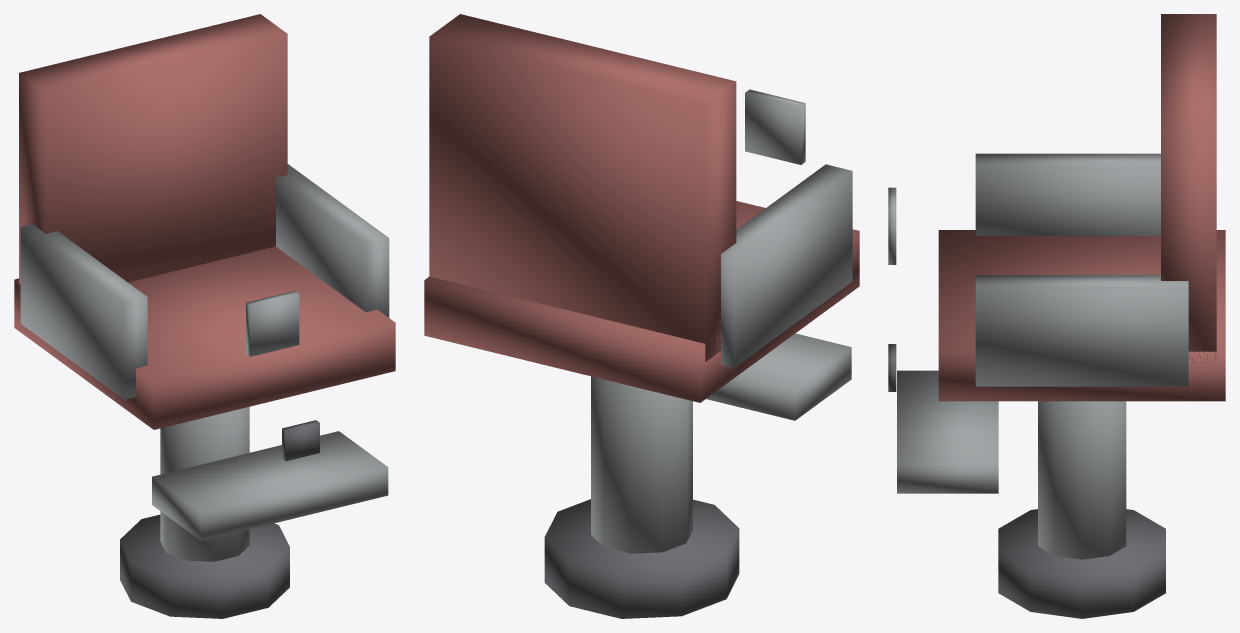
File: barber_chair__weathered.glb
3 renders of one model, left to right at view 1: azimuth 30°, elevation 25°; view 2: azimuth 150°, elevation 25°; view 3: azimuth 270°, elevation 25°, orthographic. The views are drawn at different scales.
Parts seen in each view (by area): view 1: world; view 2: world; view 3: world.
Part boxes in pixels (x1,y1,x2,y2): world: (14,14,395,618); world: (424,14,859,618); world: (888,14,1225,618).
Size of the model in its own units: 0.68 by 1.21 by 0.7288.
